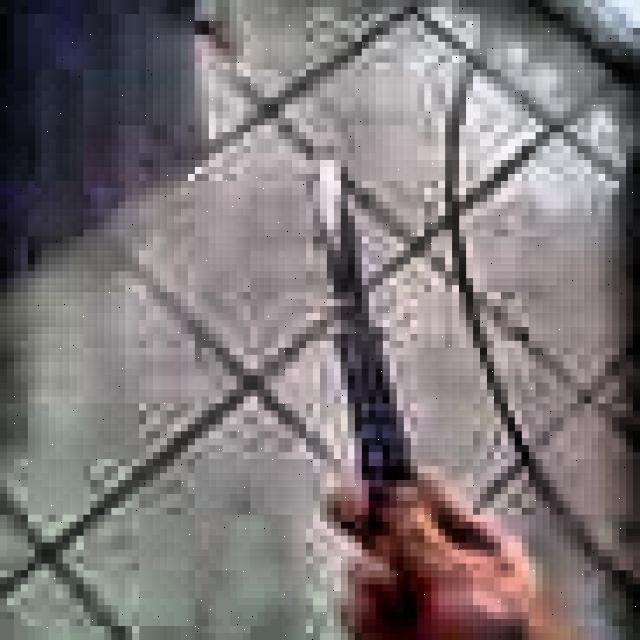knife: (320, 155, 408, 498)
